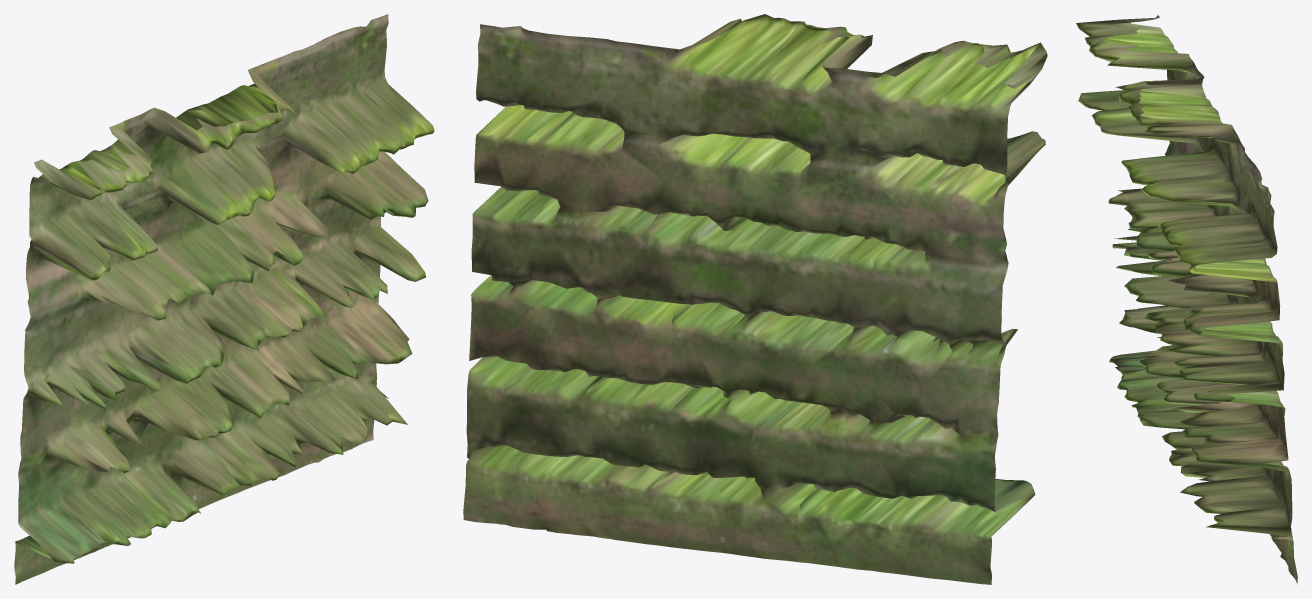
Rendered from map_210_20.obj.
The picture shows the model from 3 angles, left to right: view 1: azimuth 30°, elevation 25°; view 2: azimuth 150°, elevation 25°; view 3: azimuth 270°, elevation 25°; orthographic projection. The views are drawn at different scales.
Bounding box in the file's own units: 10 × 10 × 5.17.
1 material, 1 textured.
